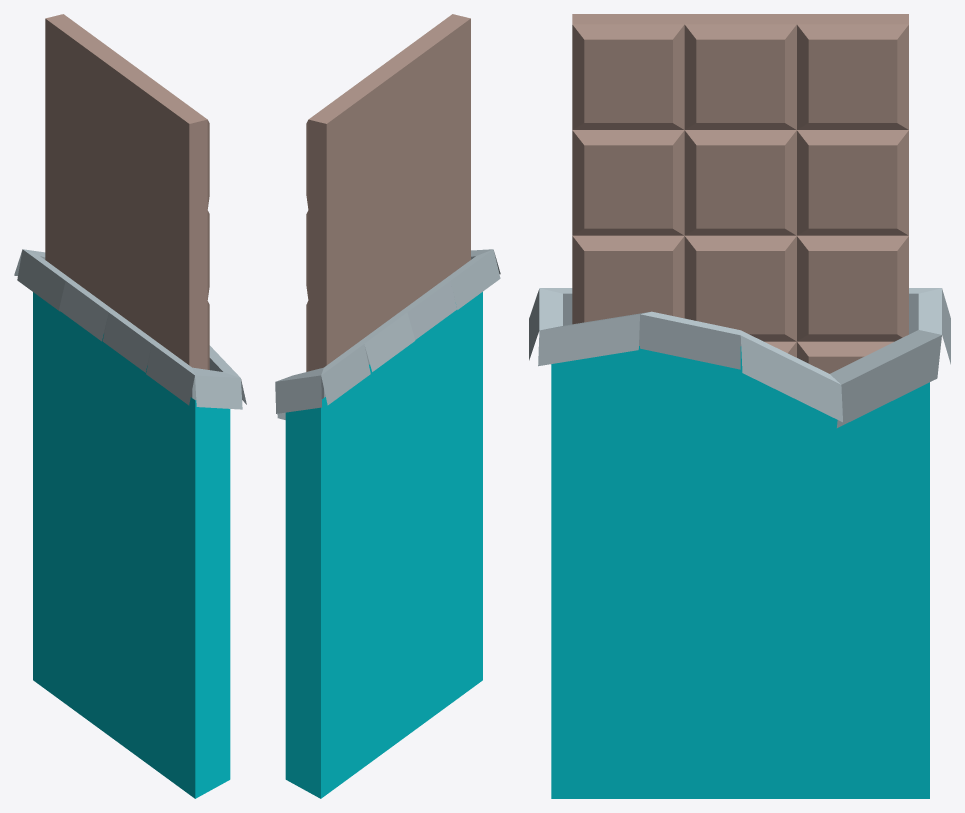
The model's file is Chocolate_01.gltf.
The picture shows the model from 3 angles, left to right: view 1: azimuth 30°, elevation 25°; view 2: azimuth 150°, elevation 25°; view 3: azimuth 270°, elevation 25°; orthographic projection. The views are drawn at different scales.
Visible parts, largest first — view 1: node-0; view 2: node-0; view 3: node-0.
Boxes of the visible parts, bbox=[...] form: node-0: bbox=[14, 14, 246, 798]; node-0: bbox=[275, 14, 500, 798]; node-0: bbox=[529, 14, 950, 798].
Size of the model in its own units: 0.9508 by 10.06 by 4.94.
